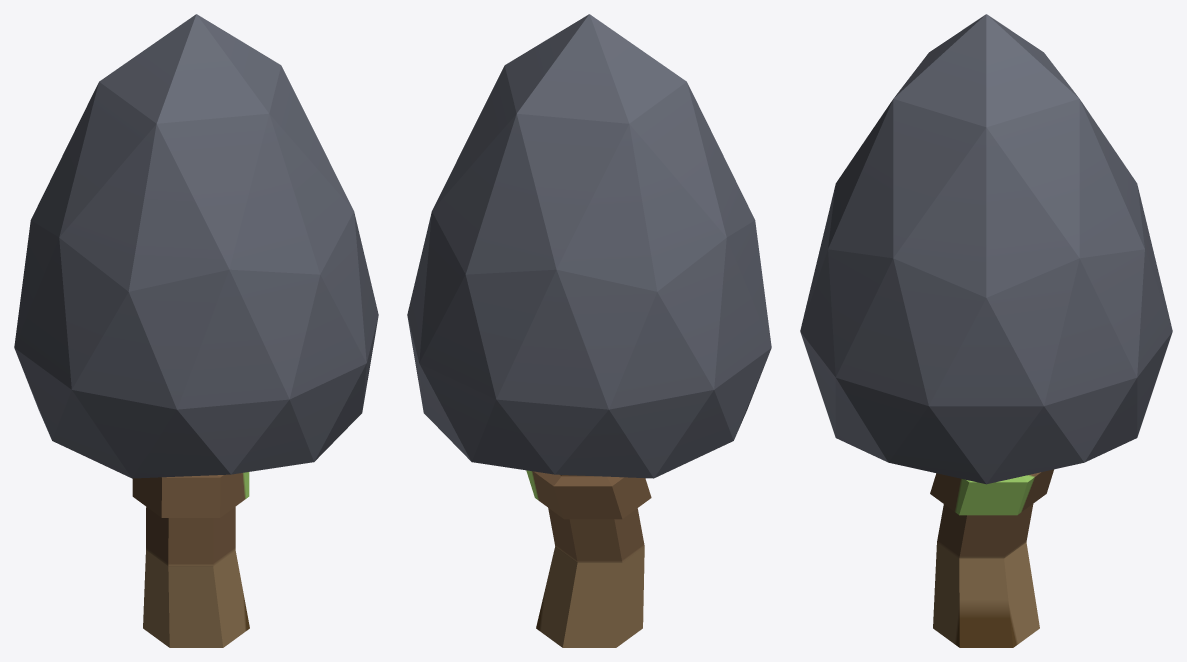
File: Mushroom_01.fbx
3 views of the same model, side by side, from view 1: azimuth 30°, elevation 25°; view 2: azimuth 150°, elevation 25°; view 3: azimuth 270°, elevation 25° (orthographic).
Parts seen in each view (by area): view 1: Mushroom_01; view 2: Mushroom_01; view 3: Mushroom_01.
Part boxes in pixels (box(x1,y1,x2,y2)): Mushroom_01: box(14, 14, 378, 647); Mushroom_01: box(407, 14, 771, 647); Mushroom_01: box(800, 14, 1172, 647).
Size of the model in its own units: 0.2958 by 0.5658 by 0.311.
